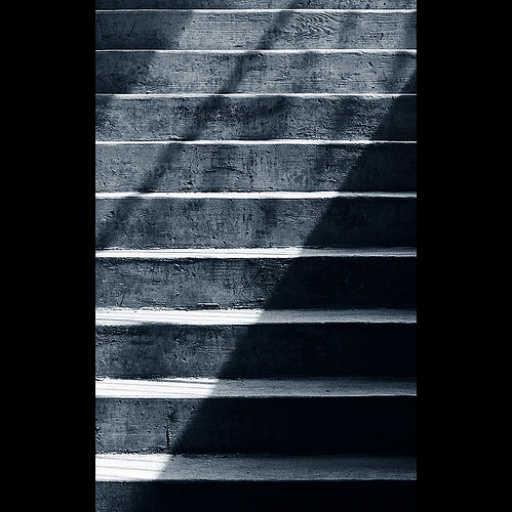Stairs: (97, 0, 415, 512)
